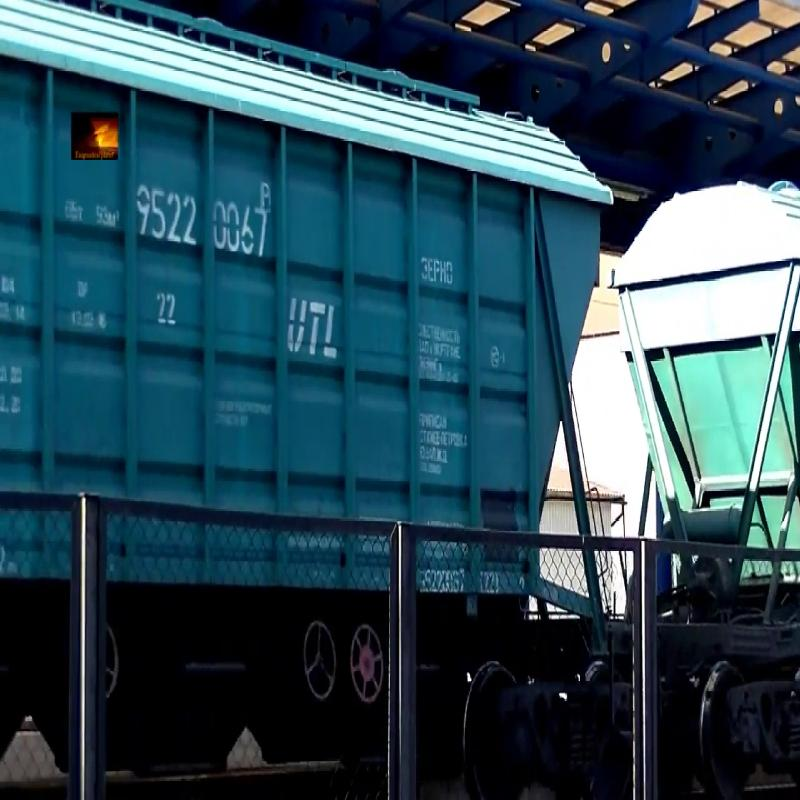train: (2, 12, 622, 774), (653, 10, 800, 775)
